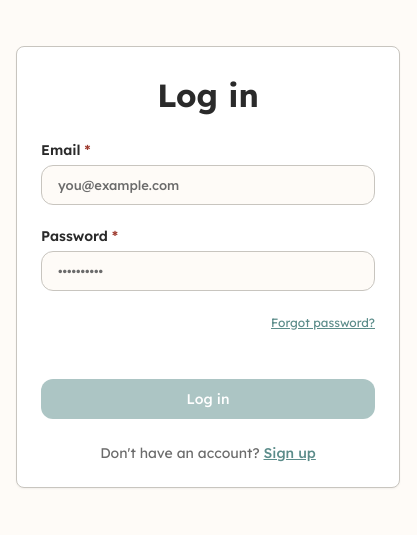
LoginPage › shows captcha required when the form is submitted without a completed captcha
Type "test@example.com" into the field with placeholder "you@example.com" at (208, 185), box [41,165,375,205]
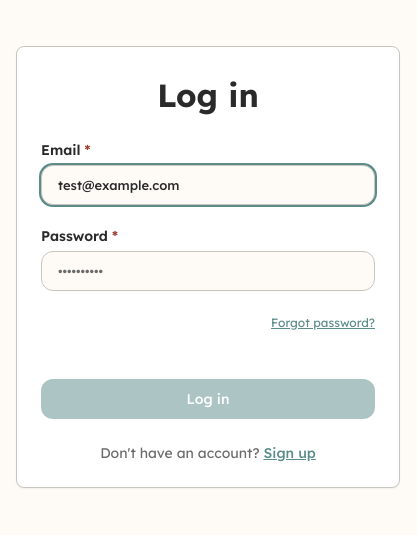
Type "secret123" into the password field with placeholder "••••••••••" at (208, 271), box [41,251,375,291]
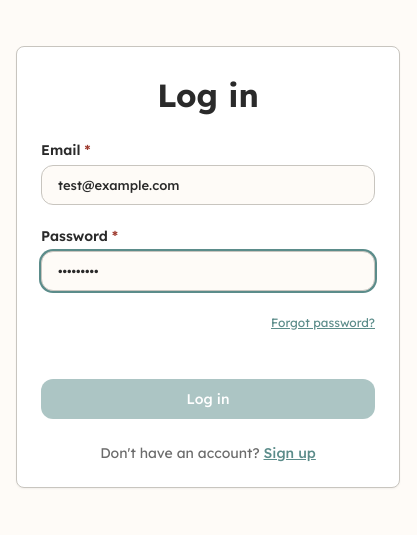
Submit the form, box [41,143,375,419]
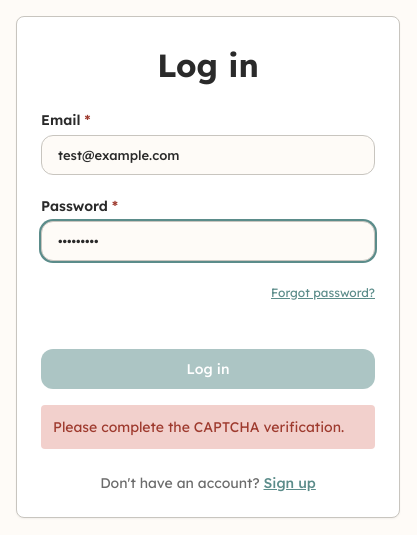
Expected: the text "Please complete the CAPTCHA verification." is shown, [41,405,375,449]
